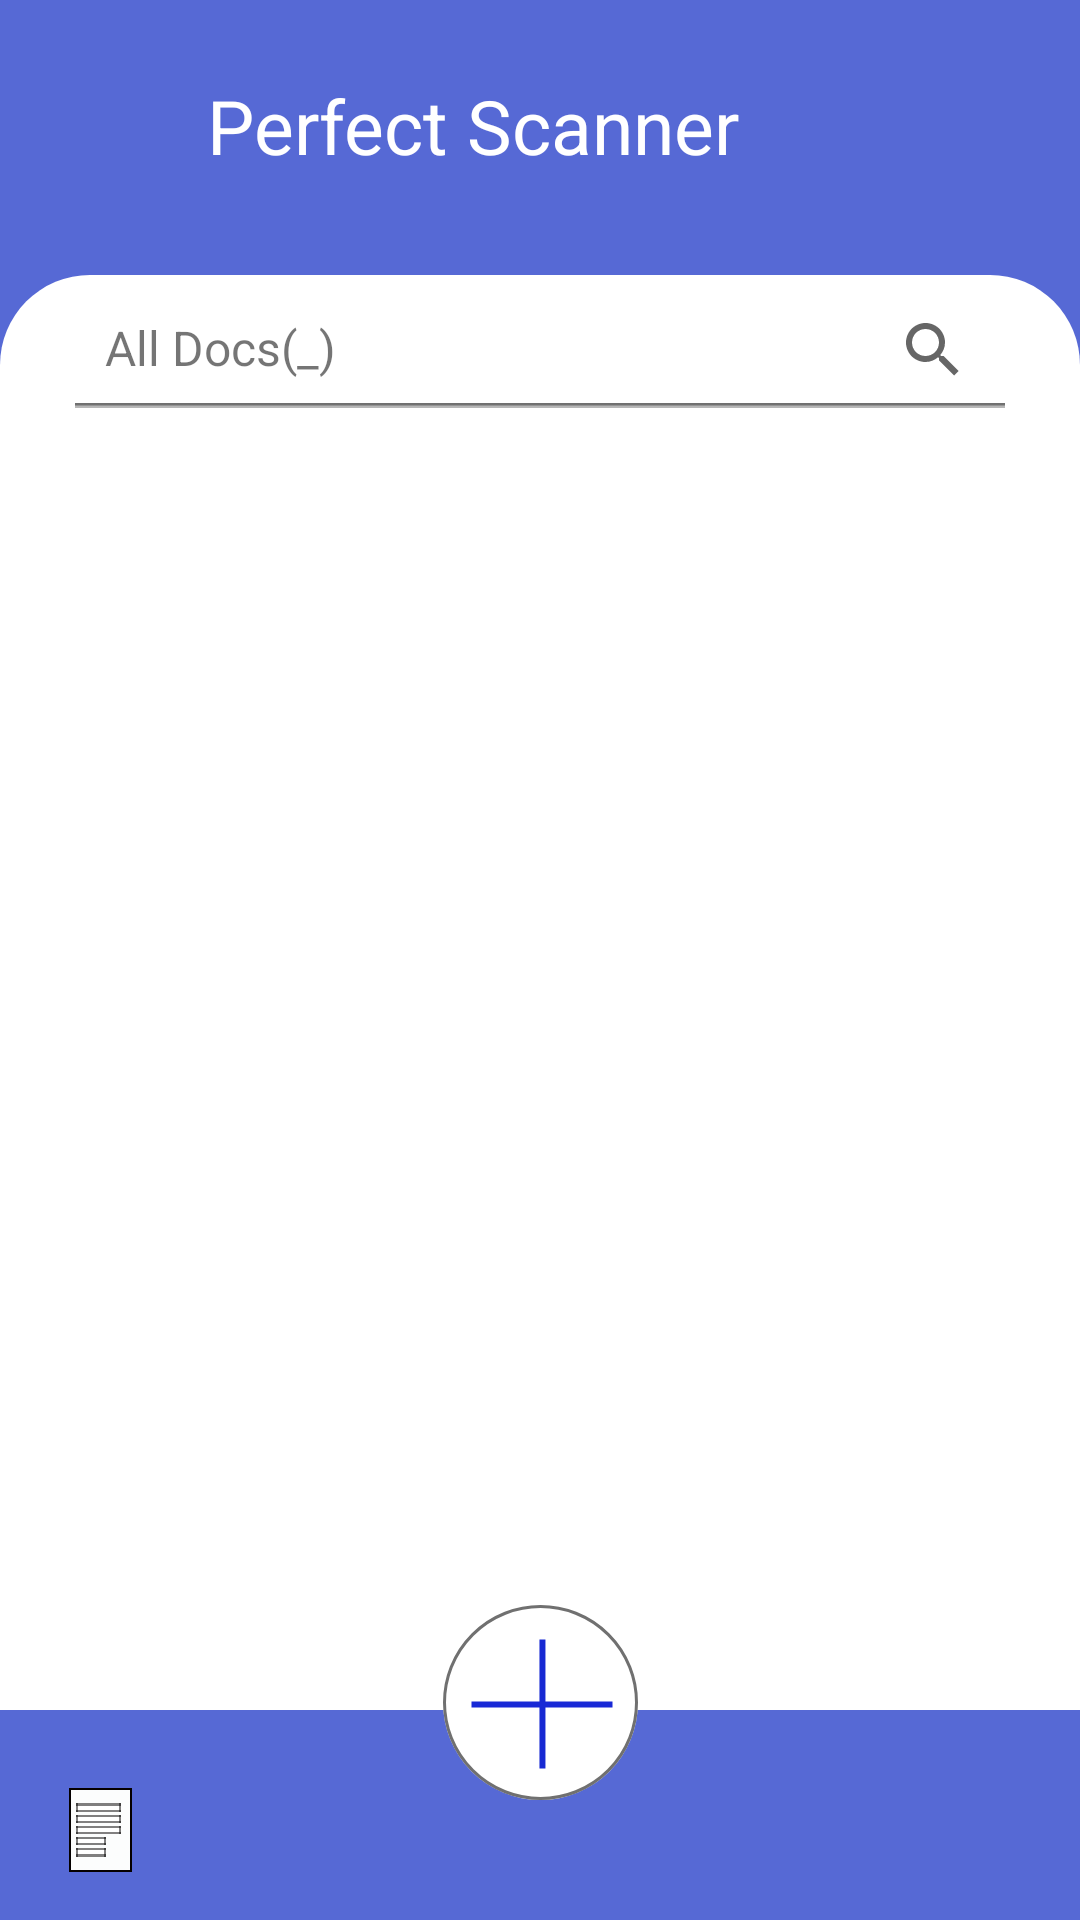

Named icons in this screenshot (1080w x 1920h) and their centers, (x,y):
docs: (100,1830)
